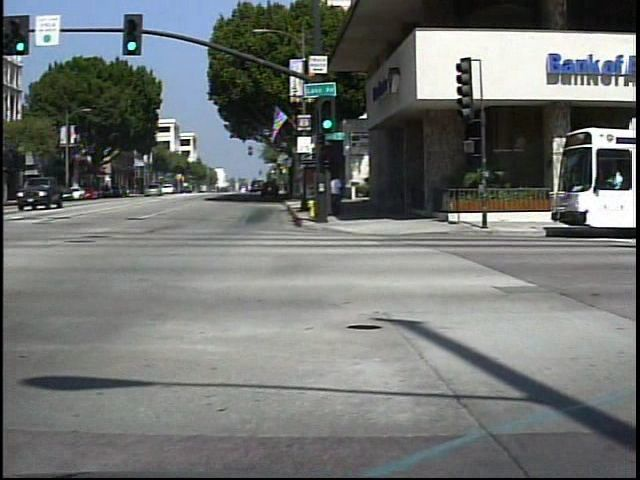person: (332, 169, 352, 219)
